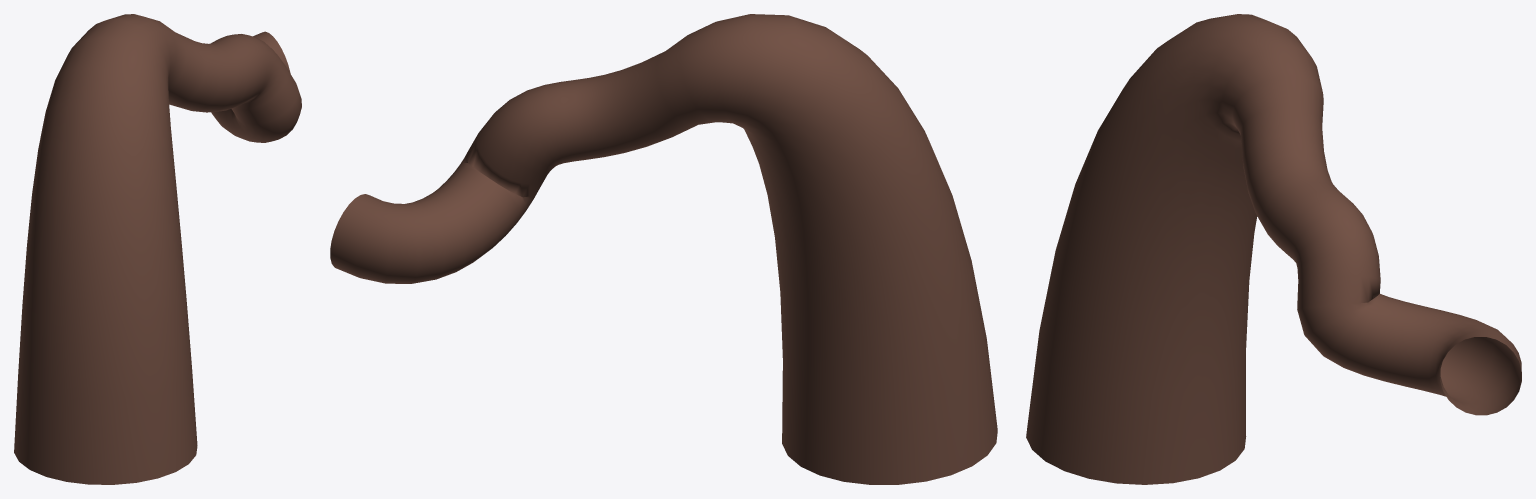
File: Eden_Environment_001_TreeTrunks_002_Rig.fbx
3 views of the same model, side by side, from view 1: azimuth 30°, elevation 25°; view 2: azimuth 150°, elevation 25°; view 3: azimuth 270°, elevation 25° (orthographic). The views are drawn at different scales.
Parts seen in each view (by area): view 1: BezierCurve.Trunk.006; view 2: BezierCurve.Trunk.006; view 3: BezierCurve.Trunk.006.
Part boxes in pixels (x1,y1,x2,y2): BezierCurve.Trunk.006: (14, 14, 301, 484); BezierCurve.Trunk.006: (330, 14, 997, 484); BezierCurve.Trunk.006: (1026, 14, 1521, 484).
Bounding box in the file's own units: 574 × 522 × 517.
